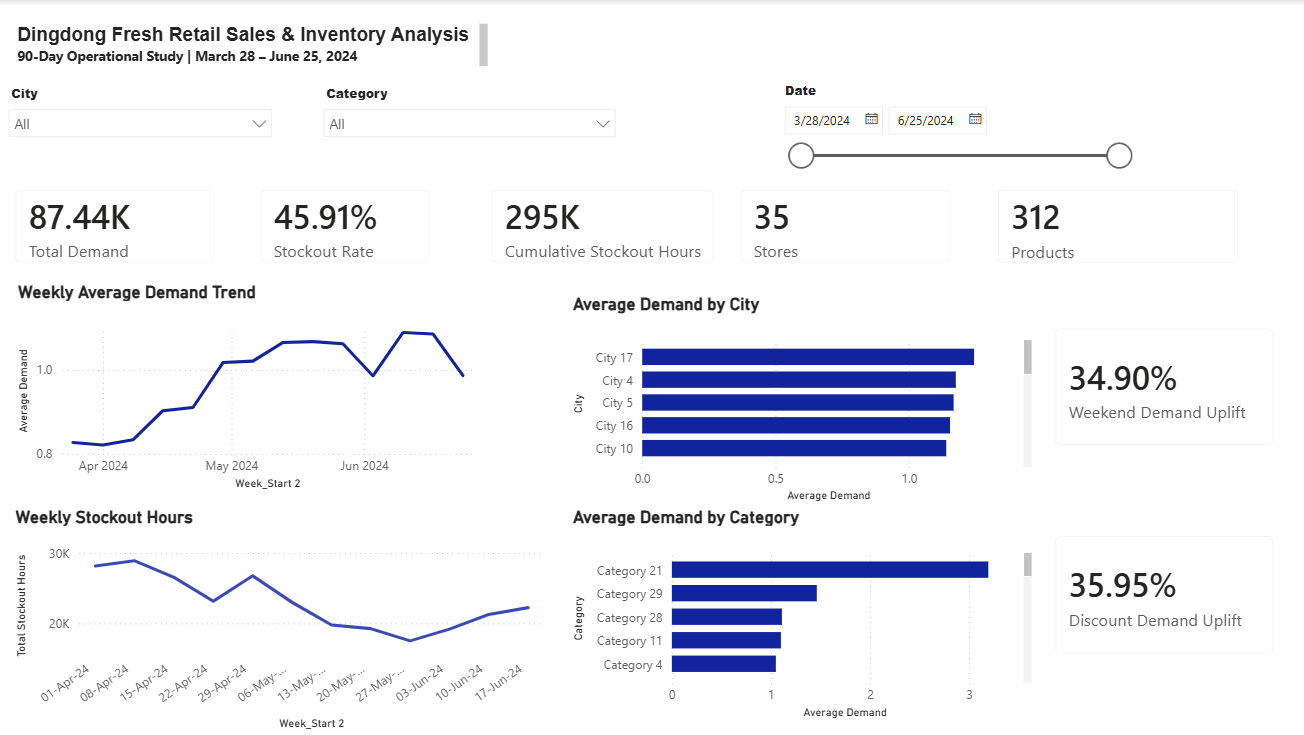

What the dashboard file says about the page in this screenshot:
{"tool":"powerbi","page":{"name":"Executive Overview","canvas":[1280,720],"ordinal":0},"visuals":[{"type":"slicer","fields":{"Values":["DimStore.city_id"]},"box":[0,76.9,278.1,79.5],"z":0,"group":"g2"},{"type":"group","id":"g1","title":"Group 1","box":[0,168.9,1230.2,106.5],"z":0},{"type":"cardVisual","fields":{"Data":["Measures 2.Total Demand"]},"box":[0,169.5,229.8,105.6],"z":0,"group":"g1"},{"type":"textbox","box":[13,18.3,470.6,58.7],"z":1000},{"type":"slicer","fields":{"Values":["DimProduct.first_category_id"]},"box":[308.7,76.9,305.9,70.4],"z":1000,"group":"g2"},{"type":"cardVisual","fields":{"Data":["Measures 2.Distinct Stores"]},"box":[709.3,169.5,239.1,105.6],"z":1000,"group":"g1"},{"type":"group","id":"g2","title":"Group 2","box":[0,74.5,1117.9,93],"z":2000},{"type":"slicer","title":"Date","fields":{"Values":["DimDate.dt"]},"box":[757.2,74.5,360.7,93],"z":2000,"group":"g2"},{"type":"cardVisual","fields":{"Data":["Measures 2.Distinct Products"]},"box":[961.1,169,269,106.4],"z":2000,"group":"g1"},{"type":"cardVisual","fields":{"Data":["Measures 2.Stockout Rate"]},"box":[239.1,169.5,199.4,105.6],"z":3000,"group":"g1"},{"type":"lineChart","title":"Weekly Average Demand Trend","fields":{"Category":["DimDate.Week_Start 2"],"Y":["Measures 2.Average Demand"]},"box":[14.3,275.1,469.3,208.6],"z":3000},{"type":"cardVisual","fields":{"Data":["Measures 2.Total Stockout Hours"]},"box":[465.9,168.9,251.9,105.2],"z":4000,"group":"g1"},{"type":"lineChart","title":"Weekly Stockout Hours","fields":{"Category":["DimDate.Week_Start 2"],"Y":["Measures 2.Total Stockout Hours"]},"box":[12.6,495.4,527,223.7],"z":4000},{"type":"clusteredBarChart","title":"Average Demand by City","fields":{"Category":["DimStore.City"],"Y":["Measures 2.Average Demand"]},"box":[558,286.8,458.9,208.6],"z":5000},{"type":"clusteredBarChart","title":"Average Demand by Category","fields":{"Category":["DimProduct.Category"],"Y":["Measures 2.Average Demand"]},"box":[558,495.4,458.9,212.5],"z":6000},{"type":"cardVisual","fields":{"Data":["Measures 2.Weekend Demand Difference %"]},"box":[1016.9,305.1,247.7,148.6],"z":6001},{"type":"cardVisual","fields":{"Data":["Measures 2.Discount Demand Difference %"]},"box":[1016.9,507.2,247.7,149.9],"z":6002}]}

Visuals, with their boxes in screenshot pixels (x1, y1, x2, y2), scaled from the page's 1280x720 canvas onto the 1304x735 screenshot:
slicer - DimStore.city_id: (0, 79, 283, 160)
"Group 1" group: (0, 172, 1253, 281)
cardVisual - Measures 2.Total Demand: (0, 173, 234, 281)
textbox: (13, 19, 493, 79)
slicer - DimProduct.first_category_id: (314, 79, 626, 150)
cardVisual - Measures 2.Distinct Stores: (723, 173, 966, 281)
"Group 2" group: (0, 76, 1139, 171)
"Date" slicer: (771, 76, 1139, 171)
cardVisual - Measures 2.Distinct Products: (979, 173, 1253, 281)
cardVisual - Measures 2.Stockout Rate: (244, 173, 447, 281)
"Weekly Average Demand Trend" lineChart: (15, 281, 493, 494)
cardVisual - Measures 2.Total Stockout Hours: (475, 172, 731, 280)
"Weekly Stockout Hours" lineChart: (13, 506, 550, 734)
"Average Demand by City" clusteredBarChart: (568, 293, 1036, 506)
"Average Demand by Category" clusteredBarChart: (568, 506, 1036, 723)
cardVisual - Measures 2.Weekend Demand Difference %: (1036, 311, 1288, 463)
cardVisual - Measures 2.Discount Demand Difference %: (1036, 518, 1288, 671)
